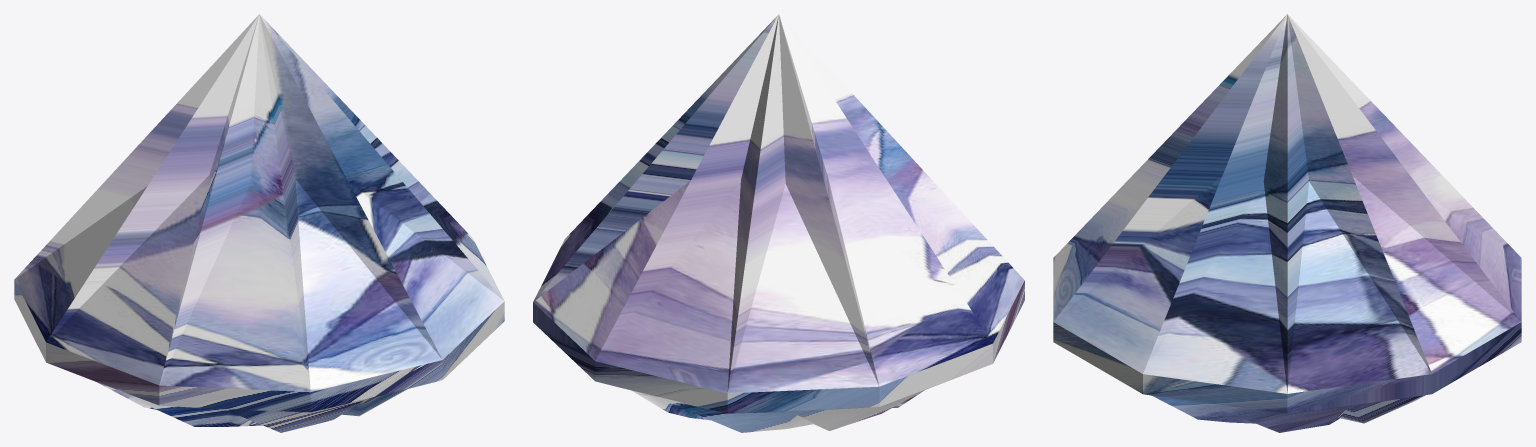
Rendered from diamond.obj.
3 renders of one model, left to right at view 1: azimuth 30°, elevation 25°; view 2: azimuth 150°, elevation 25°; view 3: azimuth 270°, elevation 25°, orthographic.
Visible parts, largest first — view 1: pCone1; view 2: pCone1; view 3: pCone1.
Part boxes in pixels (x1,y1,x2,y2): pCone1: (14, 14, 504, 432); pCone1: (533, 14, 1024, 432); pCone1: (1053, 14, 1521, 432).
Bounding box in the file's own units: 2 × 1.66 × 1.9.
1 material, 1 textured.
